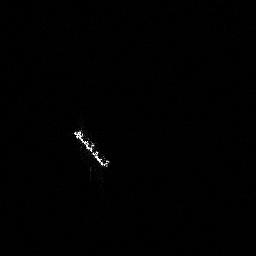ship: (71, 126, 113, 171)
